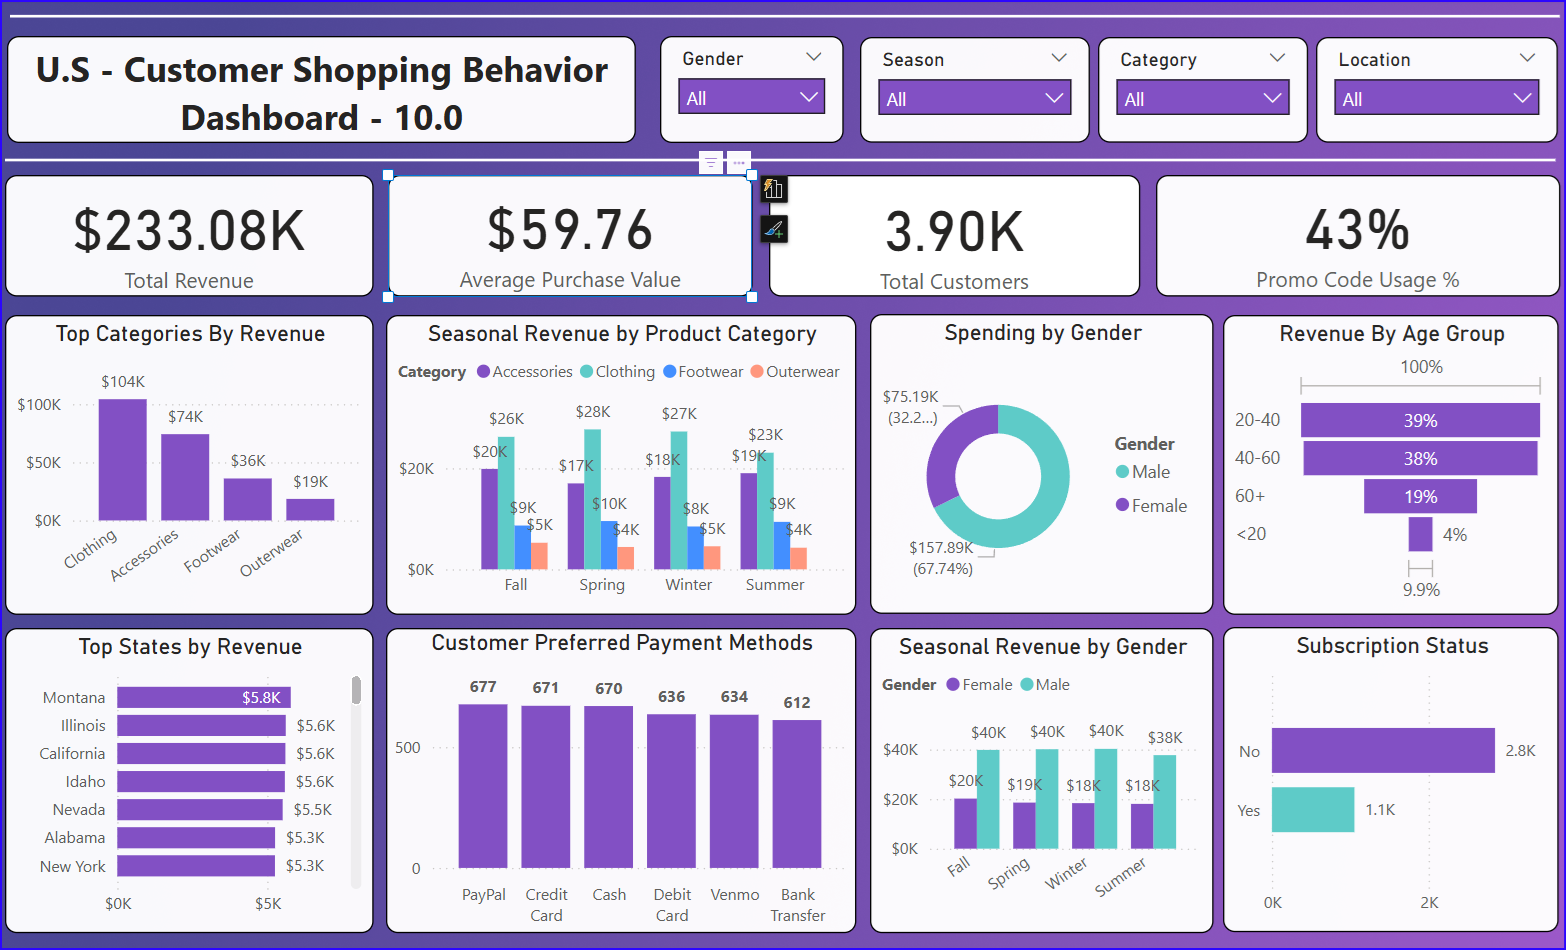

The dashboard page shown, as its layout file describes it:
{"tool":"powerbi","page":{"name":"V10 US Shopping Trends & Customer Behaviour","canvas":[1280,720],"ordinal":3},"visuals":[{"type":"card","fields":{"Values":["Sum(CustomerData.Purchase Amount)"]},"box":[54.3,133.1,278.6,92.1],"z":0},{"type":"clusteredColumnChart","title":"Top Categories By Revenue","fields":{"Category":["CustomerData.Category"],"Y":["Sum(CustomerData.Purchase Amount)"]},"box":[54.3,239,278.8,226.5],"z":1000},{"type":"textbox","box":[56.3,28.4,476.4,80.7],"z":2000},{"type":"barChart","title":"Top States by Revenue","fields":{"Category":["CustomerData.Location"],"Y":["Sum(CustomerData.Purchase Amount)"]},"box":[54.3,476.3,278.8,230.5],"z":3000},{"type":"donutChart","title":"Spending by Gender","fields":{"Category":["CustomerData.Gender"],"Y":["Sum(CustomerData.Purchase Amount)"]},"box":[709,238.6,260,226.9],"z":4000},{"type":"funnel","title":"Revenue By Age Group","fields":{"Category":["CustomerData.Age Group"],"Y":["CustomerData.Revenue % by Age Group"]},"box":[976.4,239,254,226.5],"z":5000},{"type":"slicer","fields":{"Values":["CustomerData.Gender"]},"box":[550.5,28.4,139.3,80.7],"z":6000},{"type":"card","fields":{"Values":["Shopping Trends And Customer Behaviour Dataset.Promo Code Usage %"]},"box":[925.5,133.1,305.5,92.4],"z":7000},{"type":"slicer","fields":{"Values":["CustomerData.Location"]},"box":[1047,29.1,182.9,80],"z":8000},{"type":"slicer","fields":{"Values":["CustomerData.Category"]},"box":[882,29.1,158.6,80],"z":9000},{"type":"card","fields":{"Values":["Count(Shopping Trends And Customer Behaviour Dataset.Customer ID)"]},"box":[633.1,133.1,280.7,92.4],"z":10000},{"type":"slicer","fields":{"Values":["CustomerData.Season"]},"box":[702,29.1,173.6,80],"z":11000},{"type":"columnChart","title":"Customer Preferred Payment Methods","fields":{"Category":["CustomerData.Payment Method"],"Y":["CountNonNull(CustomerData.Customer ID)"]},"box":[343.1,476.3,355.7,230.6],"z":12000},{"type":"barChart","title":" Subscription Status","fields":{"Category":["CustomerData.Subscription Status"],"Y":["CountNonNull(CustomerData.Subscription Status)"]},"box":[976.5,475.6,254.5,230.6],"z":13000},{"type":"card","fields":{"Values":["Avg(Shopping Trends And Customer Behaviour Dataset.Purchase Amount)"]},"box":[344.1,133.1,275.9,92.4],"z":14000},{"type":"shape","box":[54.3,115.7,1173.6,12.1],"z":15000},{"type":"shape","box":[57.9,6.9,1173.1,12.4],"z":16000},{"type":"clusteredColumnChart","title":"Seasonal Revenue by Product Category","fields":{"Category":["CustomerData.Season"],"Series":["CustomerData.Category"],"Y":["Sum(CustomerData.Purchase Amount)"]},"box":[343.1,239,355.9,226.5],"z":17000},{"type":"clusteredColumnChart","title":"Seasonal Revenue by Gender","fields":{"Category":["CustomerData.Season"],"Y":["Sum(CustomerData.Purchase Amount)"],"Series":["CustomerData.Gender"]},"box":[709,475.9,260,231],"z":18000}]}

Visuals, with their boxes on the page's 1280x720 design canvas (x1, y1, x2, y2). These are canvas units, not pixel positions in the 1566x950 screenshot, which may show the page scaled, cropped or inside an application window:
card - Sum(CustomerData.Purchase Amount): 54/133/333/225
"Top Categories By Revenue" clusteredColumnChart: 54/239/333/466
textbox: 56/28/533/109
"Top States by Revenue" barChart: 54/476/333/707
"Spending by Gender" donutChart: 709/239/969/466
"Revenue By Age Group" funnel: 976/239/1230/466
slicer - CustomerData.Gender: 550/28/690/109
card - Shopping Trends And Customer Behaviour Dataset.Promo Code Usage %: 926/133/1231/226
slicer - CustomerData.Location: 1047/29/1230/109
slicer - CustomerData.Category: 882/29/1041/109
card - Count(Shopping Trends And Customer Behaviour Dataset.Customer ID): 633/133/914/226
slicer - CustomerData.Season: 702/29/876/109
"Customer Preferred Payment Methods" columnChart: 343/476/699/707
" Subscription Status" barChart: 976/476/1231/706
card - Avg(Shopping Trends And Customer Behaviour Dataset.Purchase Amount): 344/133/620/226
shape: 54/116/1228/128
shape: 58/7/1231/19
"Seasonal Revenue by Product Category" clusteredColumnChart: 343/239/699/466
"Seasonal Revenue by Gender" clusteredColumnChart: 709/476/969/707
